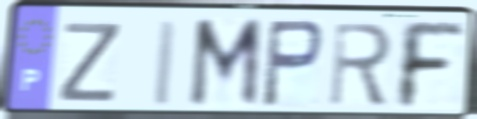F: (397, 18, 468, 112)
I: (149, 17, 181, 109)
M: (186, 16, 266, 111)
P: (259, 17, 327, 111)
R: (326, 20, 395, 109)
Z: (55, 20, 125, 105)
